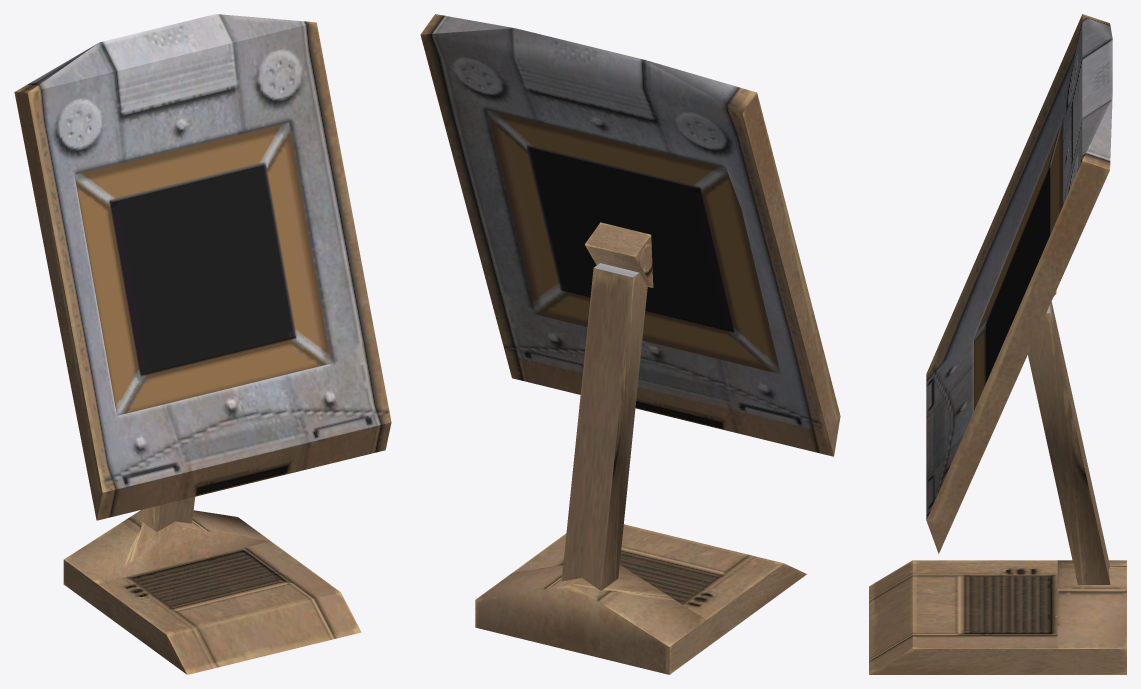
File: eqp_diagnostic_screen_l1.fbx
3 renders of one model, left to right at view 1: azimuth 30°, elevation 25°; view 2: azimuth 150°, elevation 25°; view 3: azimuth 270°, elevation 25°, orthographic. The views are drawn at different scales.
Visible parts, largest first — view 1: mesh_node; view 2: mesh_node; view 3: mesh_node.
Boxes of the visible parts, <box> form: mesh_node: <box>14,14,391,674</box>; mesh_node: <box>420,14,840,674</box>; mesh_node: <box>869,14,1126,674</box>.
Bounding box in the file's own units: 0.2262 × 0.4039 × 0.1676.
2 materials, 2 textured.
